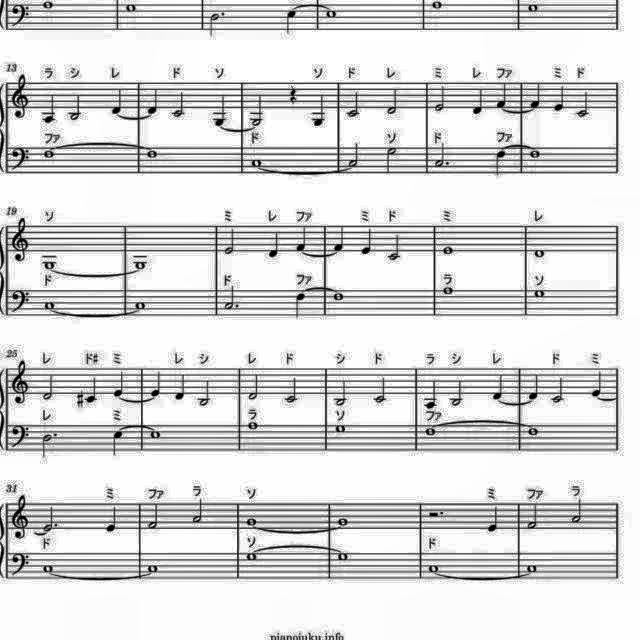Bass-clef: (8, 143, 32, 173), (8, 422, 32, 450), (8, 550, 32, 578), (8, 286, 32, 314), (10, 0, 33, 28)
Diez: (74, 388, 85, 409)
Full-note: (130, 255, 152, 271), (40, 255, 60, 272), (142, 146, 160, 160), (335, 551, 353, 565), (526, 0, 542, 14), (526, 146, 542, 160), (530, 247, 546, 261), (531, 286, 547, 300), (332, 289, 348, 303), (124, 0, 140, 14), (146, 426, 162, 440), (322, 6, 338, 20), (244, 550, 260, 564), (38, 0, 56, 12), (441, 244, 457, 256), (336, 516, 352, 528), (442, 284, 458, 296), (248, 158, 264, 170), (243, 516, 259, 528), (245, 420, 261, 432), (334, 422, 350, 434), (144, 562, 160, 574), (524, 424, 540, 436), (132, 300, 148, 312), (422, 426, 438, 438), (424, 562, 440, 574), (524, 562, 540, 574), (40, 300, 56, 312), (42, 148, 58, 160), (40, 562, 56, 574), (428, 0, 444, 10)
Half-dot: (39, 504, 61, 536), (207, 8, 227, 40), (38, 431, 58, 462), (432, 142, 452, 172), (222, 284, 242, 312)
Half-note: (247, 93, 265, 127), (66, 92, 84, 124), (549, 374, 567, 406), (196, 378, 214, 409), (448, 378, 466, 409), (282, 372, 300, 403), (383, 231, 401, 261), (333, 377, 351, 407), (372, 375, 390, 405), (169, 89, 187, 119), (384, 146, 401, 177), (221, 226, 237, 258), (40, 372, 56, 403), (246, 371, 262, 402), (526, 501, 542, 531), (432, 83, 448, 113), (146, 500, 162, 530), (384, 89, 400, 118), (346, 142, 362, 170), (192, 496, 208, 524), (568, 498, 584, 526), (576, 90, 592, 118), (346, 90, 362, 118)
Half-rest: (424, 508, 448, 522)
Quarter-note: (308, 91, 328, 129), (38, 91, 58, 125), (211, 92, 229, 126), (421, 378, 439, 410), (104, 504, 120, 536), (172, 372, 188, 404), (267, 228, 283, 260), (358, 226, 374, 258), (587, 366, 603, 398), (292, 288, 308, 320), (492, 148, 508, 180), (294, 224, 312, 252), (526, 371, 542, 402), (86, 375, 102, 405), (552, 85, 568, 115), (486, 503, 502, 533), (332, 224, 348, 254), (490, 372, 506, 402), (148, 367, 164, 397), (494, 80, 510, 110), (112, 426, 128, 456), (144, 88, 160, 116), (111, 86, 127, 114), (284, 8, 300, 36), (470, 88, 484, 119), (114, 368, 128, 398), (528, 82, 542, 110)
Quarter-rest: (285, 84, 299, 106)
Treble-clef: (8, 70, 32, 120), (8, 214, 32, 262), (8, 494, 32, 542), (9, 358, 31, 406)
